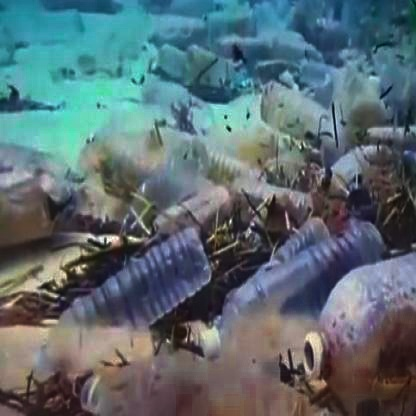pbottle: (218, 208, 387, 346), (41, 258, 216, 362), (234, 78, 372, 192), (86, 348, 308, 416), (195, 146, 324, 241), (103, 152, 211, 222)
